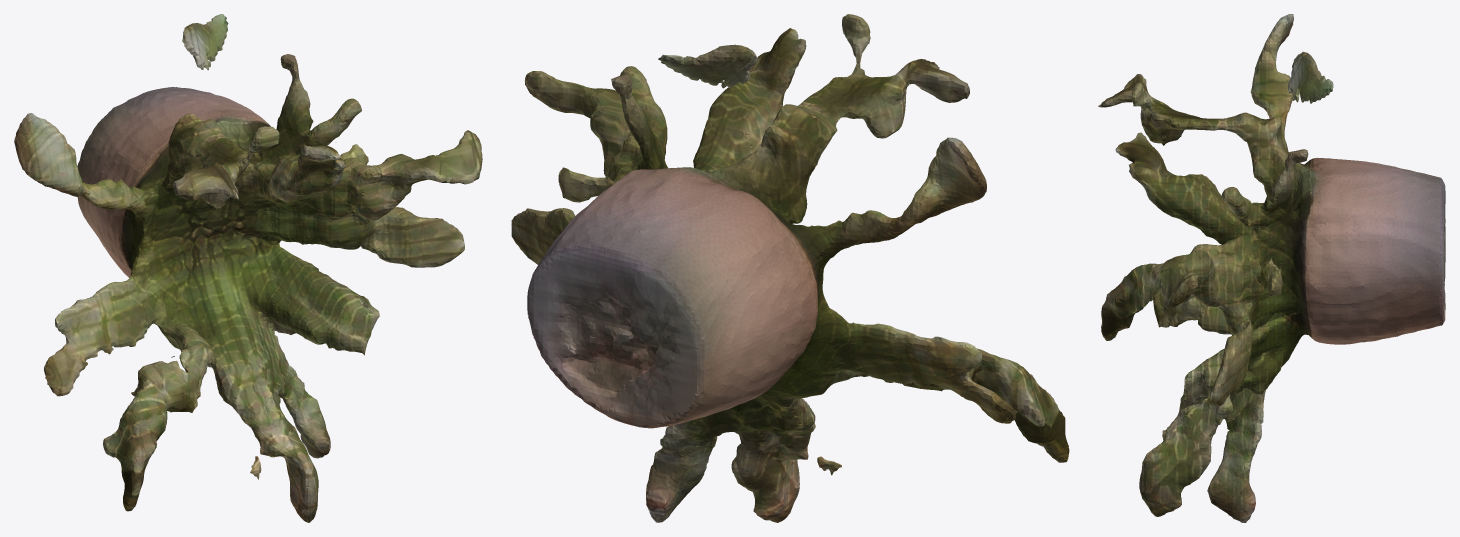
Rendered from plant.obj.
3 renders of one model, left to right at view 1: azimuth 30°, elevation 25°; view 2: azimuth 150°, elevation 25°; view 3: azimuth 270°, elevation 25°, orthographic. The views are drawn at different scales.
Bounding box in the file's own units: 1.78 × 1.84 × 1.31.
1 material, 1 textured.
